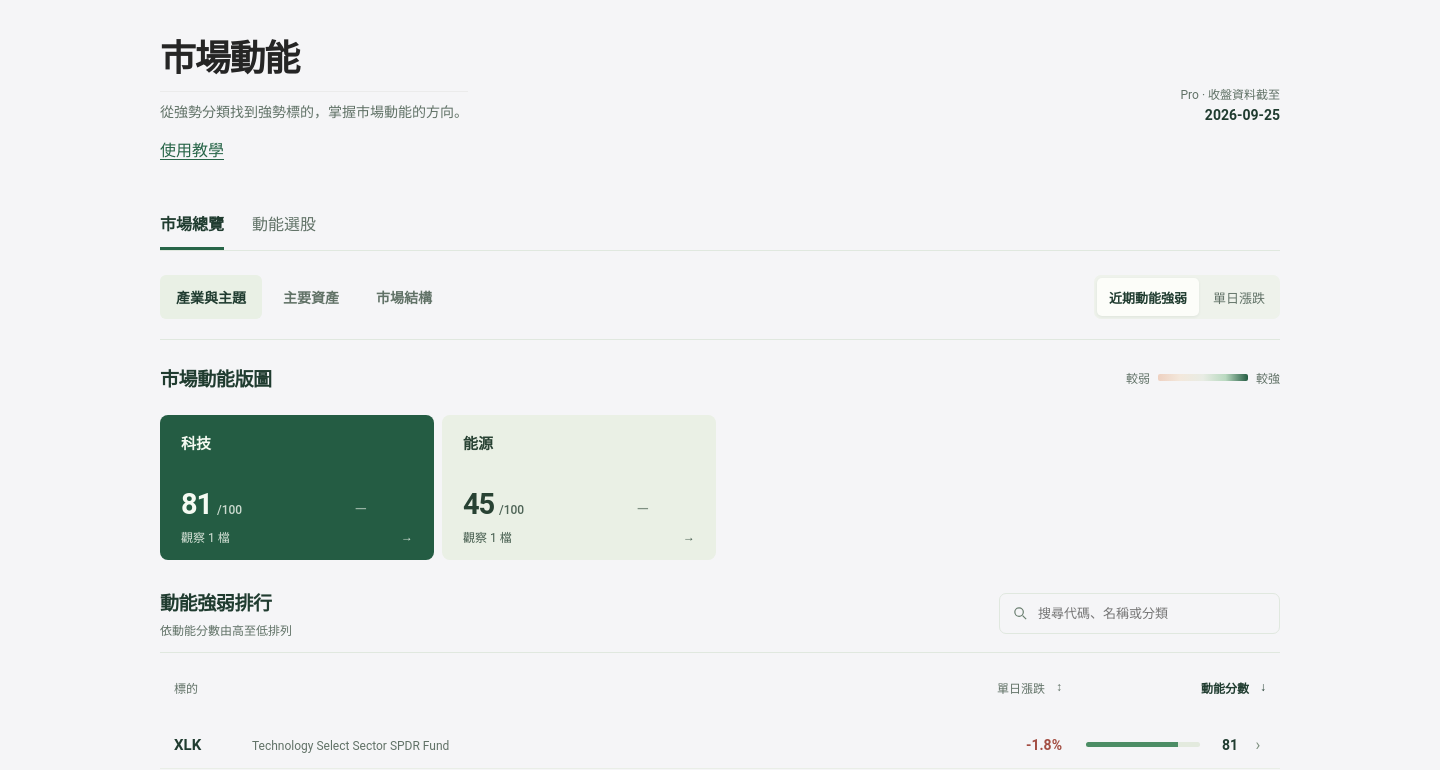
Test: MomentumDashboardPage › supports Chinese group search and resets the search when changing scope
Expected: the text "XLK" is shown, x1=174 y1=736 x2=201 y2=754
In the search field: {"x": 1152, "y": 613} x1=1038 y1=606 x2=1267 y2=621, type "能源"
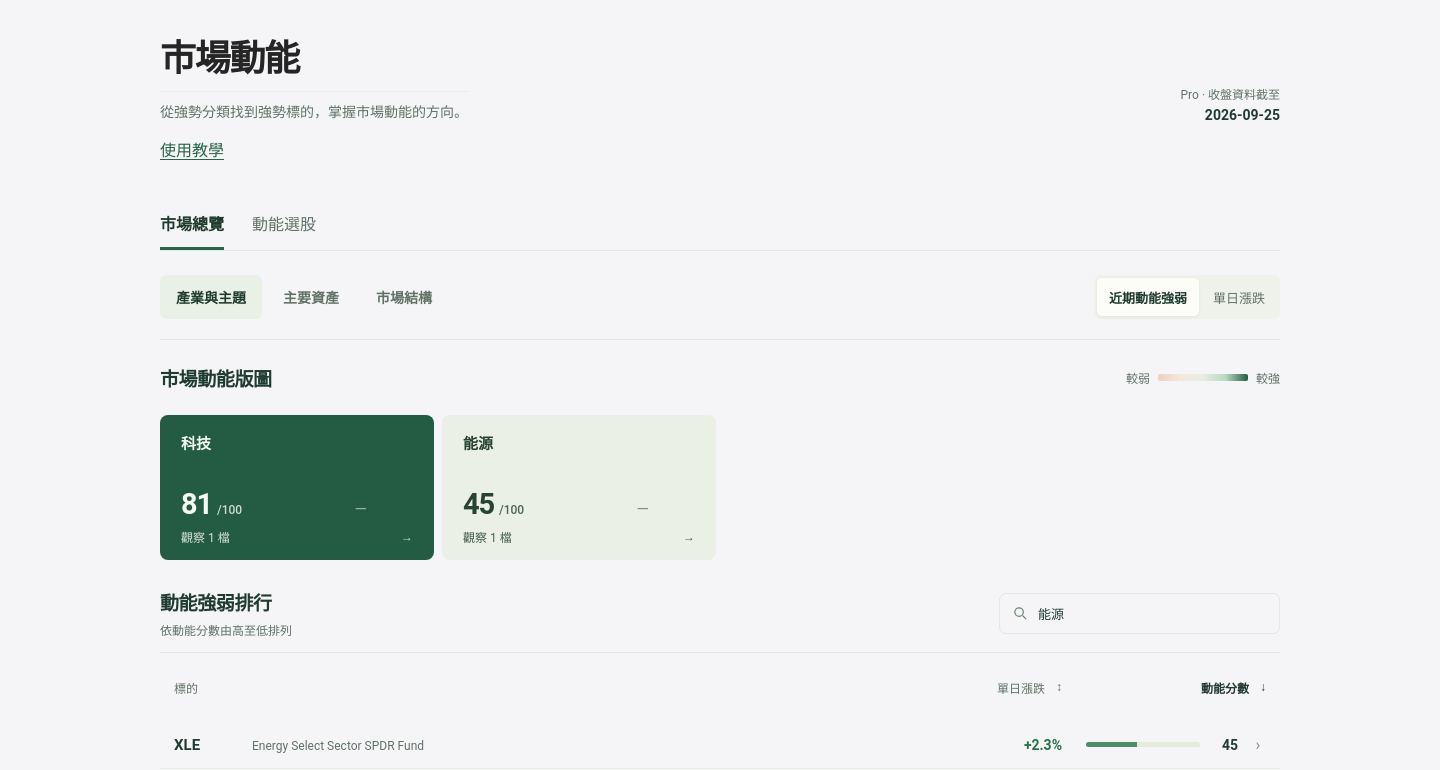
Expected: the text "XLE" is shown, x1=174 y1=736 x2=200 y2=754
Expected: the button "XLK" is gone
Click the button "主要資產": {"x": 311, "y": 297} x1=267 y1=275 x2=355 y2=319
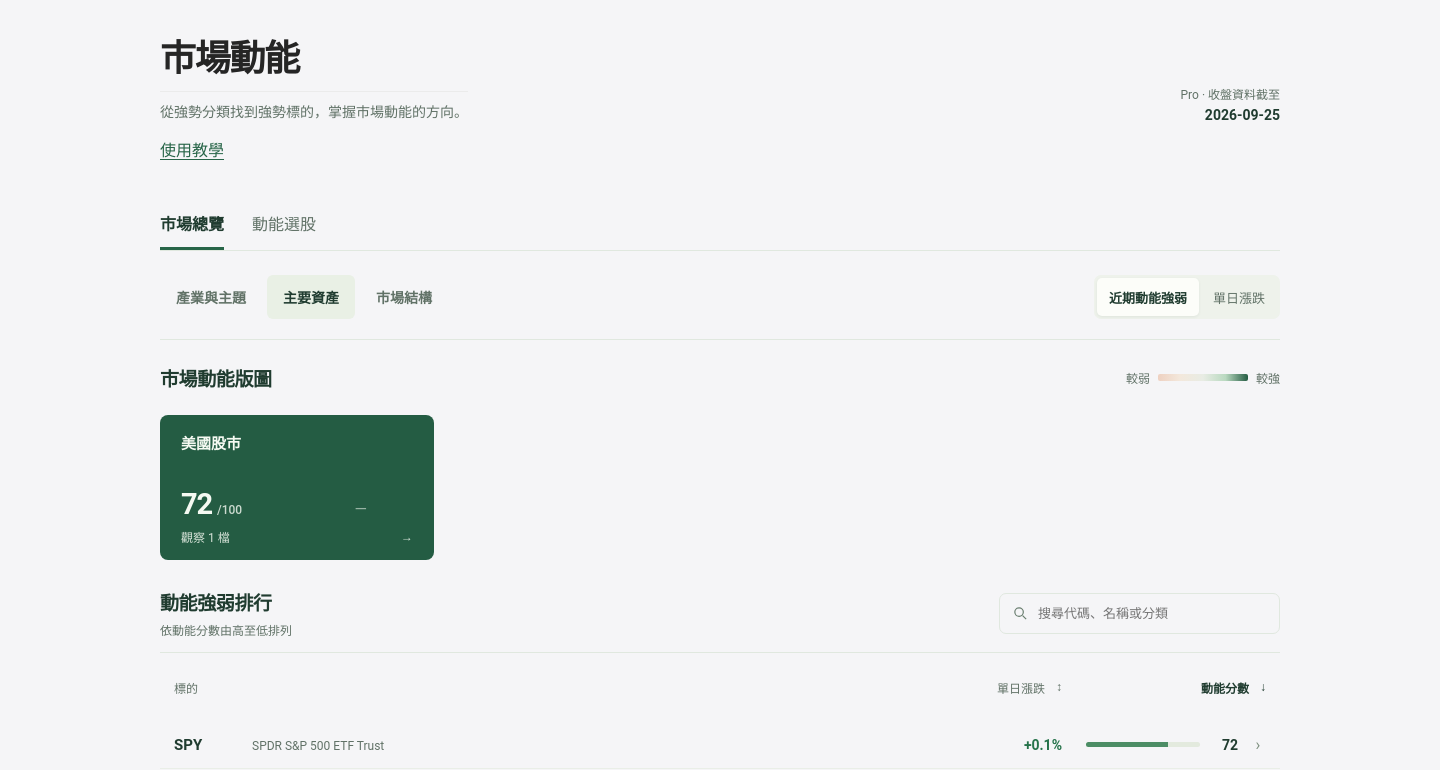
Expected: the text "SPY" is shown, x1=174 y1=736 x2=202 y2=754
Expected: the search field is empty, x1=1038 y1=606 x2=1267 y2=621
